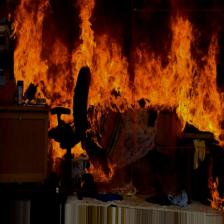fire: (7, 0, 132, 190), (133, 10, 224, 148), (206, 152, 224, 216)
